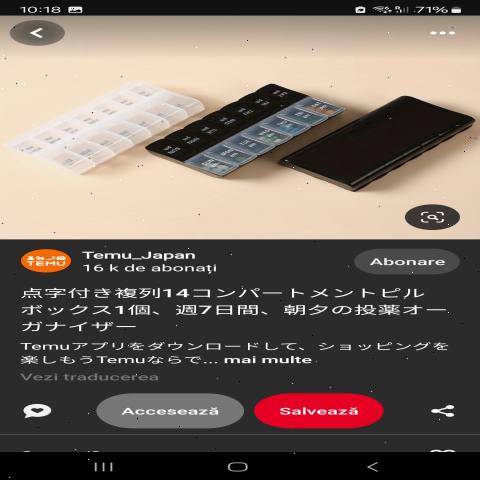PillBox: (284, 71, 478, 202), (133, 71, 346, 190)
